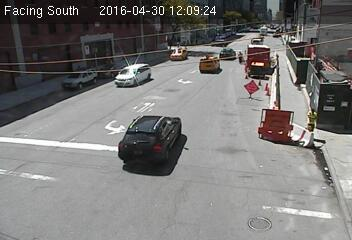neg: (127, 163, 165, 214), (132, 88, 168, 137), (264, 117, 297, 161), (12, 110, 44, 153), (190, 50, 220, 90), (242, 75, 271, 112), (204, 133, 229, 166), (53, 41, 75, 71), (70, 92, 91, 120), (217, 199, 238, 227), (60, 172, 79, 197)
